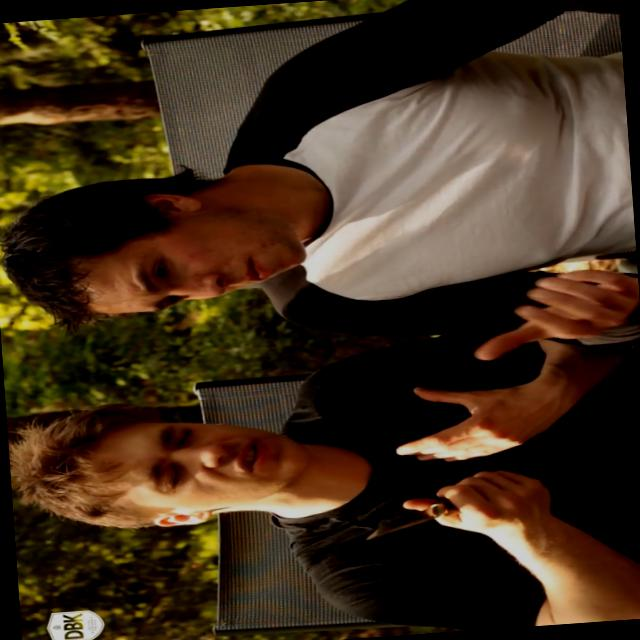knife: (349, 467, 492, 546)
